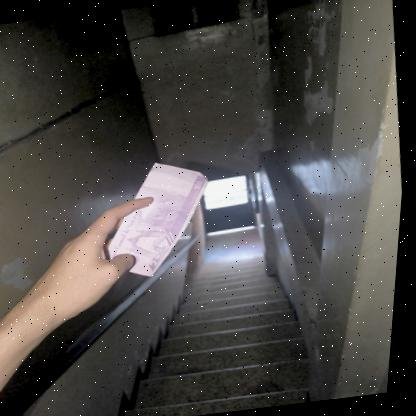one_hundred-back-vef: (93, 154, 225, 284)
